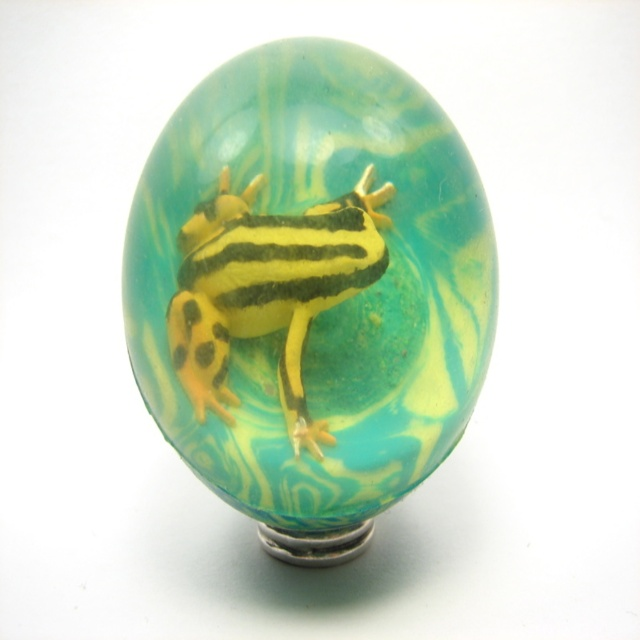Frog: (170, 163, 395, 461)
